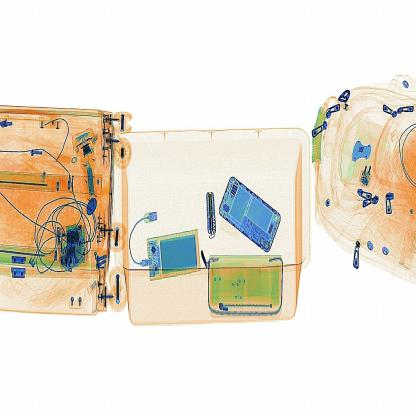scissors: (198, 188, 226, 236)
